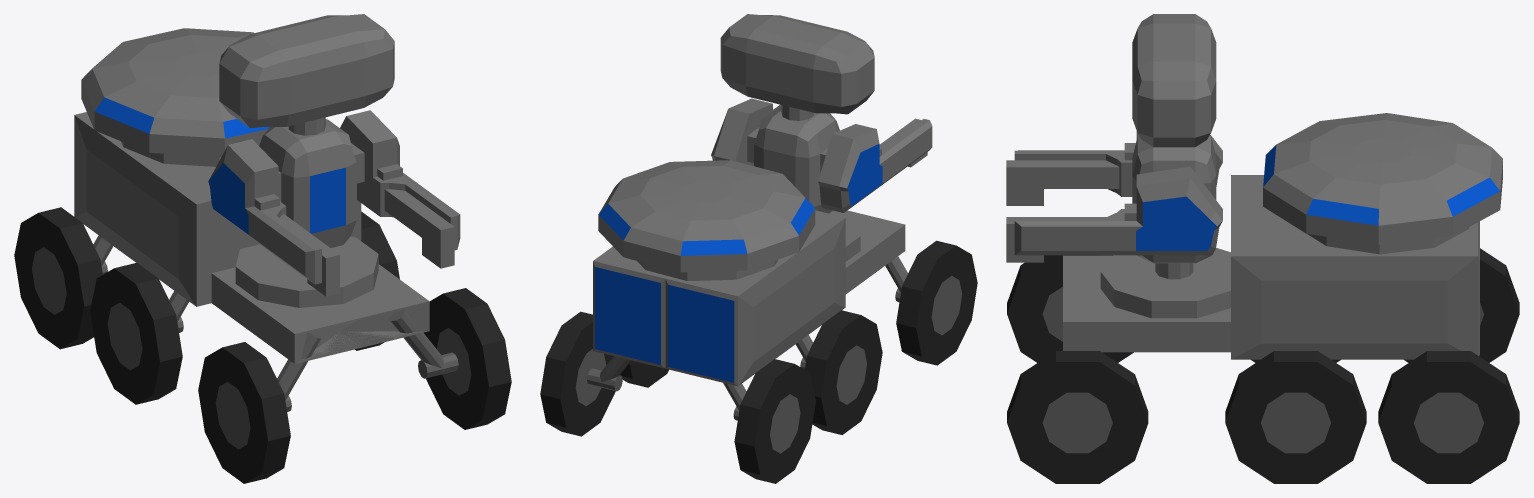
File: constructor.fbx
3 renders of one model, left to right at view 1: azimuth 30°, elevation 25°; view 2: azimuth 150°, elevation 25°; view 3: azimuth 270°, elevation 25°, orthographic. The views are drawn at different scales.
Visible parts, largest first — view 1: Circle.002, Circle; view 2: Circle.002, Circle; view 3: Circle.002, Circle.
Boxes of the visible parts, left/top/right/bottom form: Circle.002: left=74, top=14, right=460, bottom=363; Circle: left=14, top=207, right=511, bottom=483; Circle.002: left=593, top=14, right=932, bottom=386; Circle: left=540, top=240, right=977, bottom=483; Circle.002: left=1006, top=14, right=1502, bottom=359; Circle: left=1007, top=248, right=1519, bottom=483.
Bounding box in the file's own units: 309 × 459 × 559.
